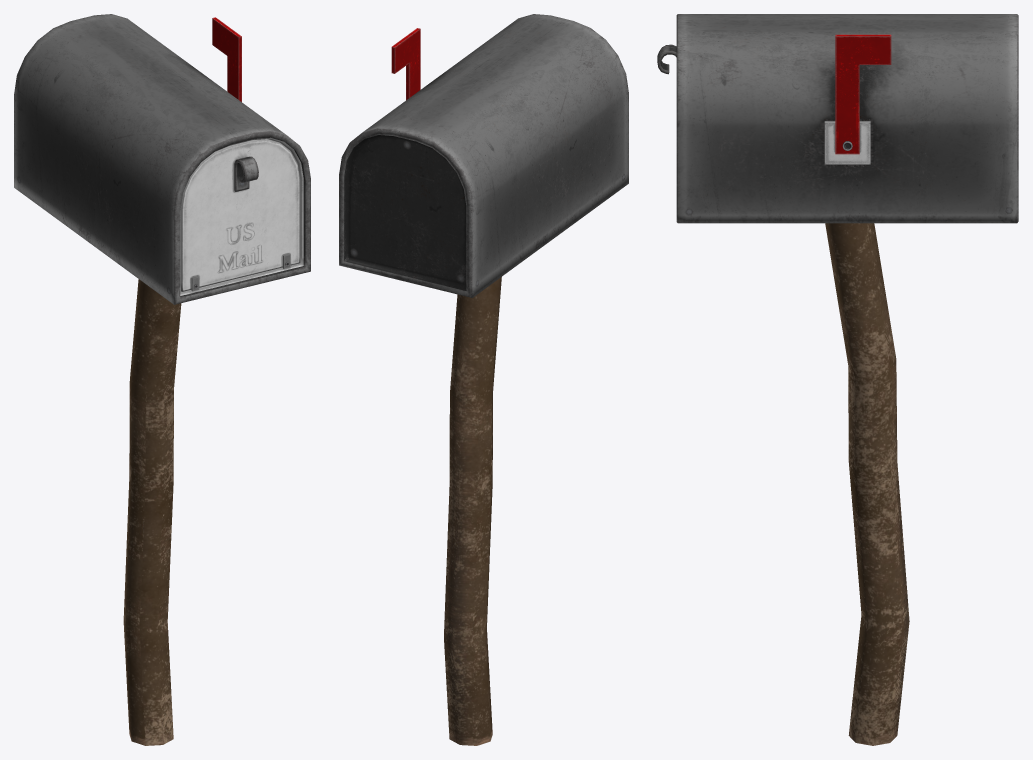
Rendered from MailBox.fbx.
The picture shows the model from 3 angles, left to right: view 1: azimuth 30°, elevation 25°; view 2: azimuth 150°, elevation 25°; view 3: azimuth 270°, elevation 25°; orthographic projection. The views are drawn at different scales.
Visible parts, largest first — view 1: MailBox, Wood_stick, RedFlag; view 2: MailBox, Wood_stick, RedFlag; view 3: MailBox, Wood_stick, RedFlag.
Boxes of the visible parts, x1,y1,x2,y2 form: MailBox: [14, 14, 310, 304]; Wood_stick: [123, 279, 181, 745]; RedFlag: [212, 17, 241, 101]; MailBox: [339, 14, 628, 297]; Wood_stick: [444, 277, 501, 745]; RedFlag: [391, 28, 420, 100]; MailBox: [657, 14, 1018, 223]; Wood_stick: [825, 223, 909, 745]; RedFlag: [835, 34, 891, 154].
Size of the model in its own units: 10.51 by 48.29 by 21.44.
